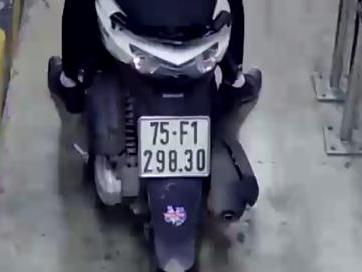num_plate: (136, 114, 213, 180)
